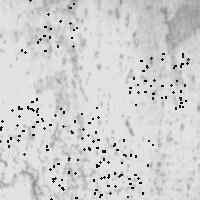pitted_surface: (5, 7, 197, 199), (93, 139, 152, 196), (41, 107, 98, 165), (129, 53, 187, 107), (21, 0, 76, 51), (49, 158, 103, 200), (0, 98, 37, 156)
